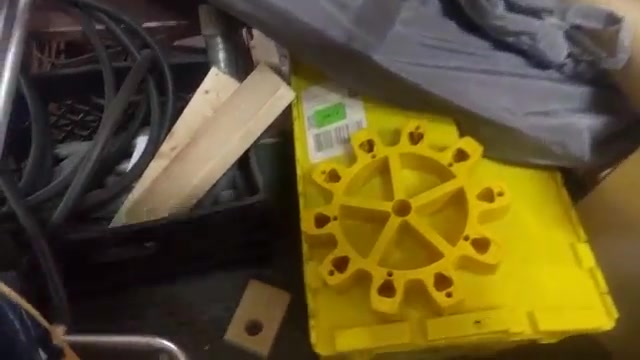gear: (288, 116, 517, 321)
